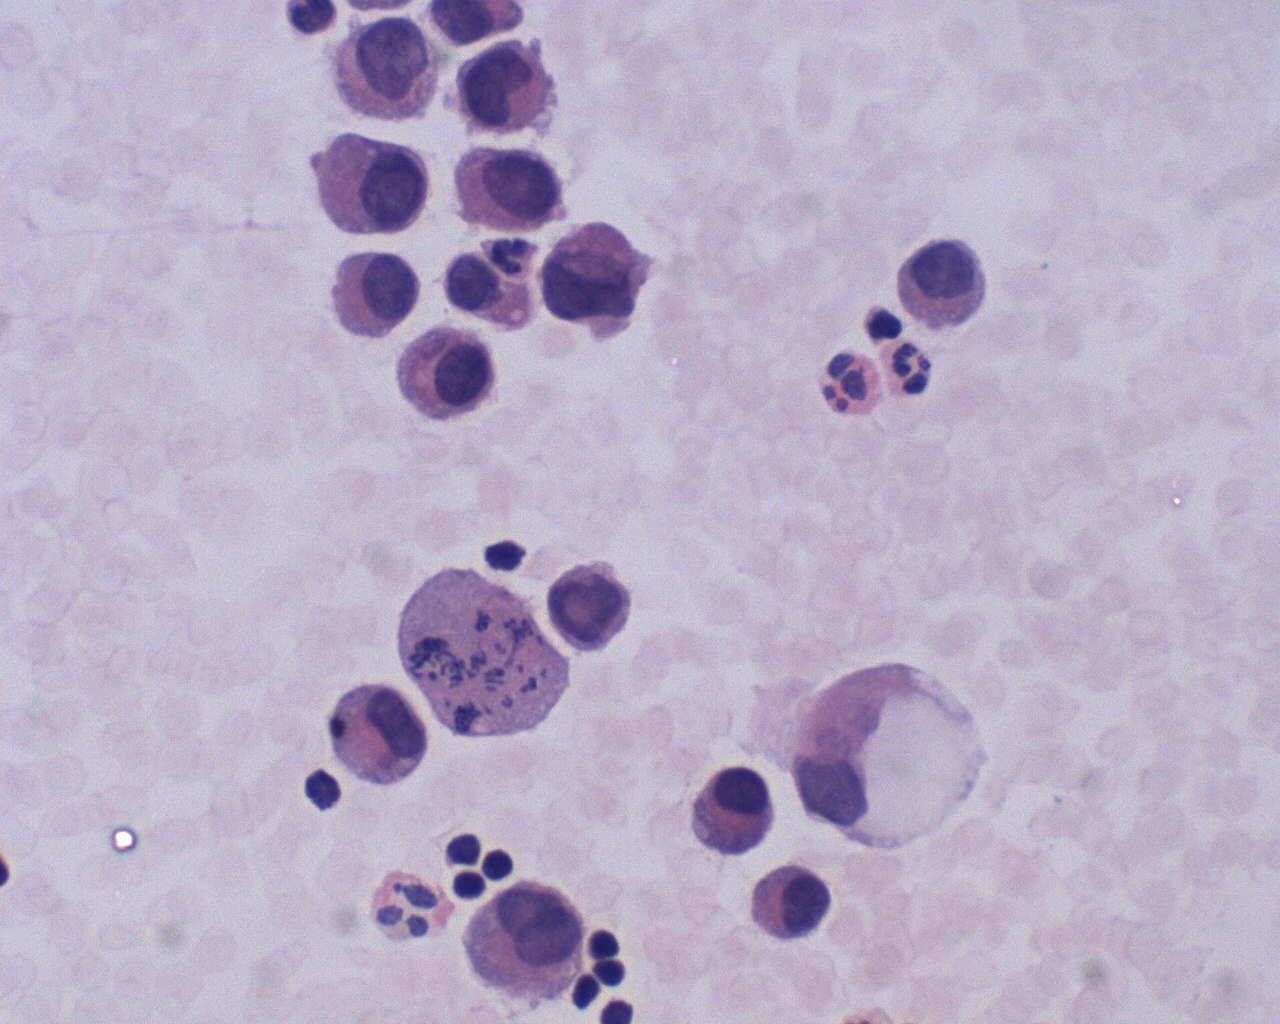ab: (446, 876, 590, 1006), (539, 214, 664, 345), (310, 118, 439, 234), (450, 29, 577, 141), (445, 130, 573, 233), (328, 14, 443, 121), (740, 860, 838, 948), (549, 559, 636, 656)
histo: (788, 650, 997, 858)
lymph: (440, 830, 485, 871)
meso: (891, 230, 1001, 331), (390, 327, 496, 422), (326, 248, 418, 342), (690, 764, 776, 858)
neutro: (816, 345, 885, 421), (883, 334, 949, 406)
